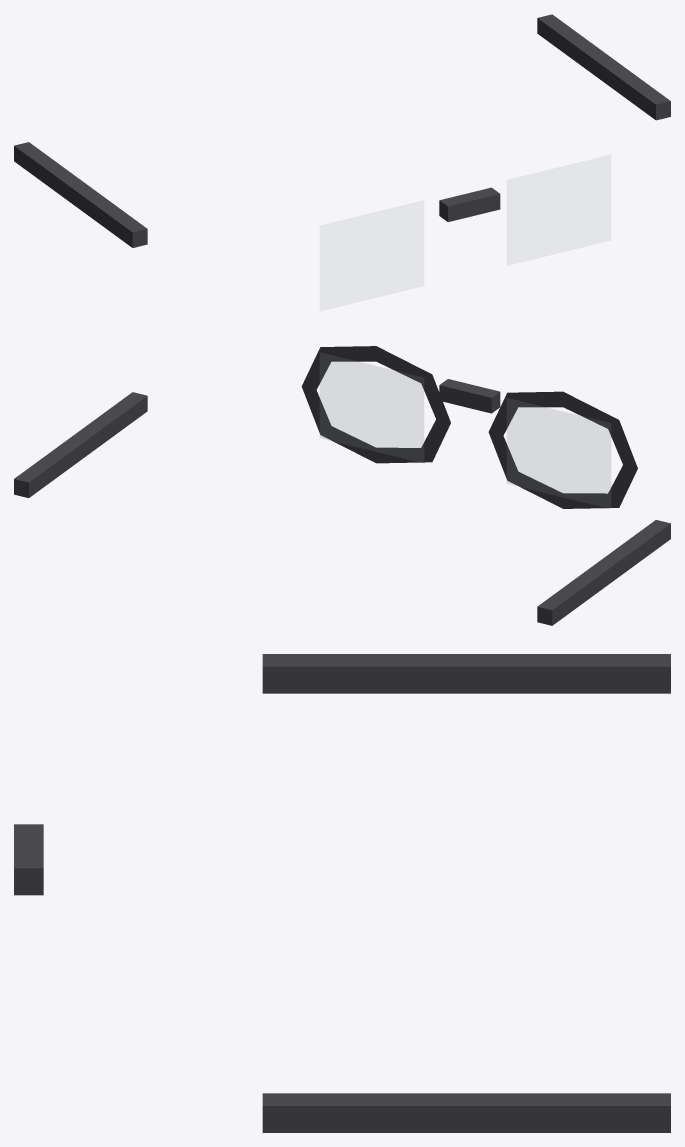
The model's file is glasses.glb.
3 renders of one model, top to bottom at view 1: azimuth 30°, elevation 25°; view 2: azimuth 150°, elevation 25°; view 3: azimuth 270°, elevation 25°, orthographic. The views are drawn at different scales.
Parts seen in each view (by area): view 1: lenses, frames; view 2: frames, lenses; view 3: frames.
Part boxes in pixels (x1,y1,x2,y2): lenses: [320, 155, 610, 310]; frames: [14, 14, 670, 247]; frames: [14, 346, 670, 625]; lenses: [320, 353, 610, 508]; frames: [14, 654, 670, 1132].
Size of the model in its own units: 0.288 by 0.06 by 0.177.
